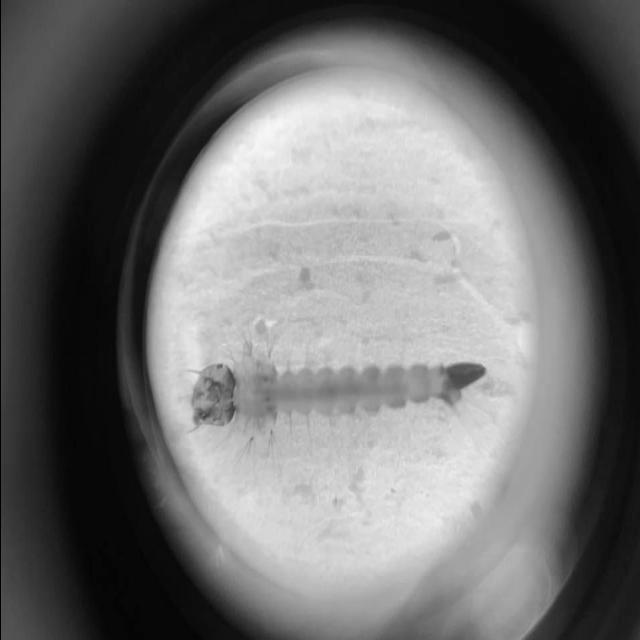larvas: (197, 355, 480, 422)
